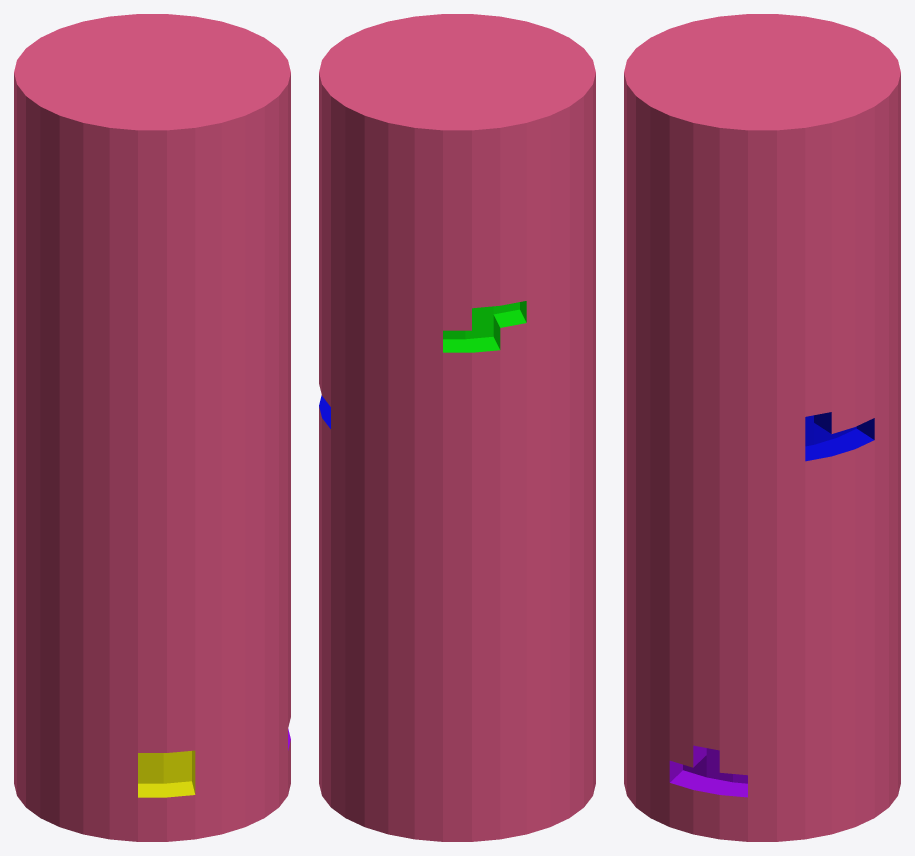
The model's file is Tower1.fbx.
3 renders of one model, left to right at view 1: azimuth 30°, elevation 25°; view 2: azimuth 150°, elevation 25°; view 3: azimuth 270°, elevation 25°, orthographic.
Parts seen in each view (by area): view 1: Cylinder; view 2: Cylinder; view 3: Cylinder.
Boxes of the visible parts, bbox=[...] form: Cylinder: bbox=[14, 14, 290, 841]; Cylinder: bbox=[319, 14, 595, 841]; Cylinder: bbox=[624, 14, 900, 841].
Size of the model in its own units: 844 by 2405 by 848.
